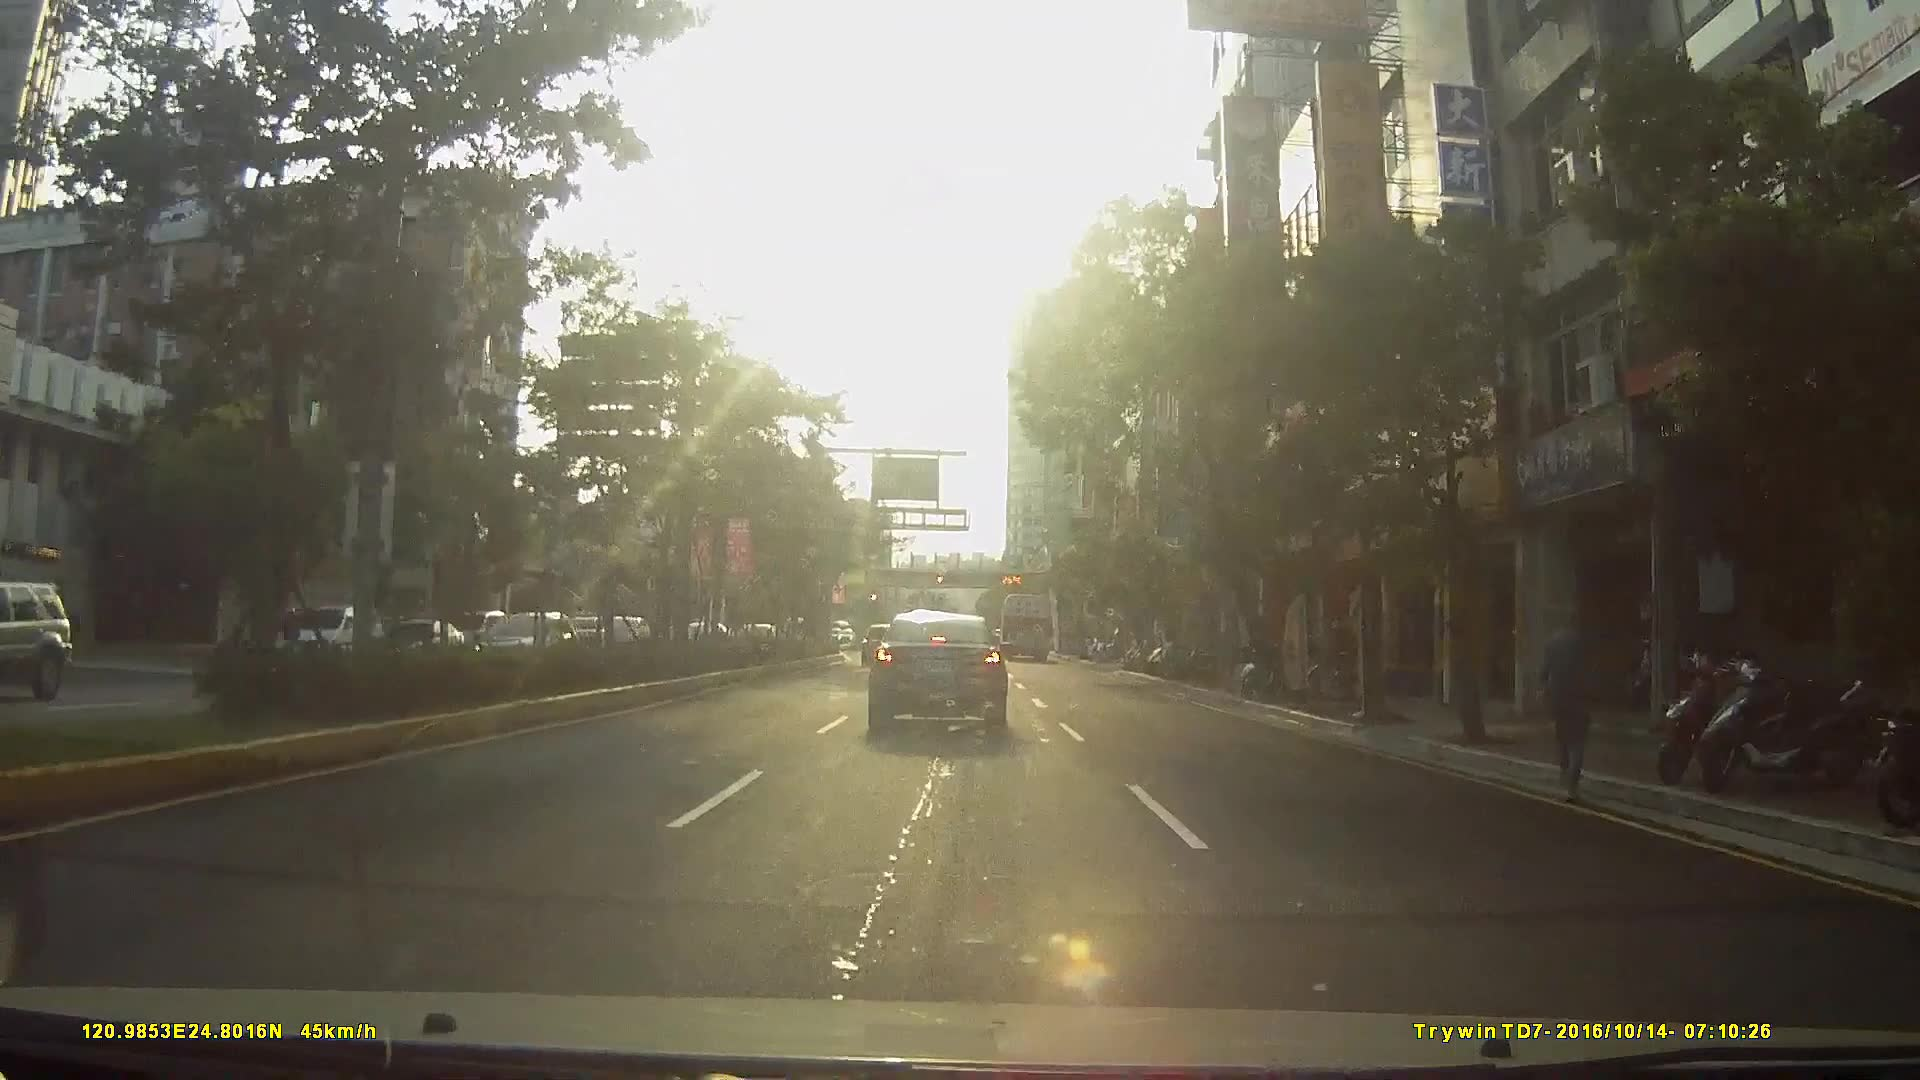pedestrian: (1545, 603, 1608, 801)
vehicle: (865, 610, 1008, 733), (1, 575, 81, 715), (278, 603, 378, 667), (997, 593, 1055, 661), (860, 623, 899, 664)
